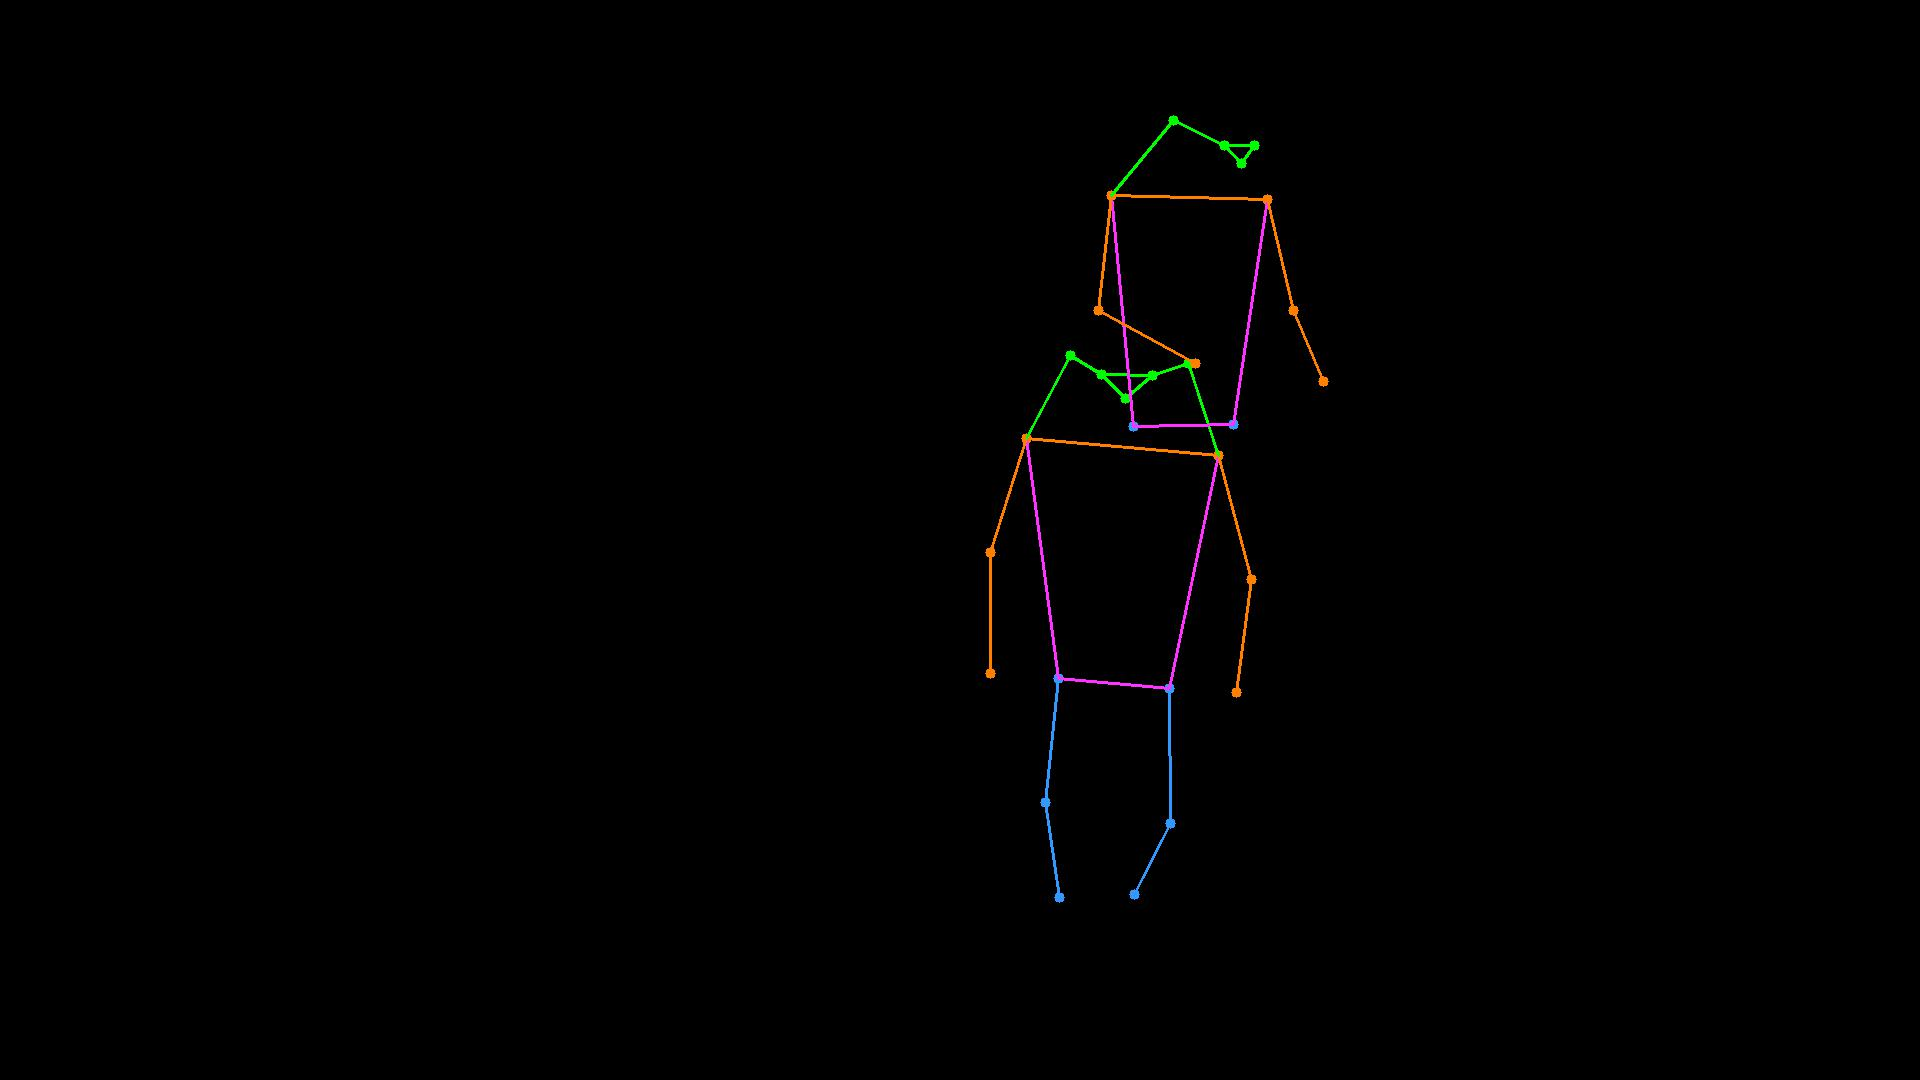normal: (887, 58, 1374, 951)
